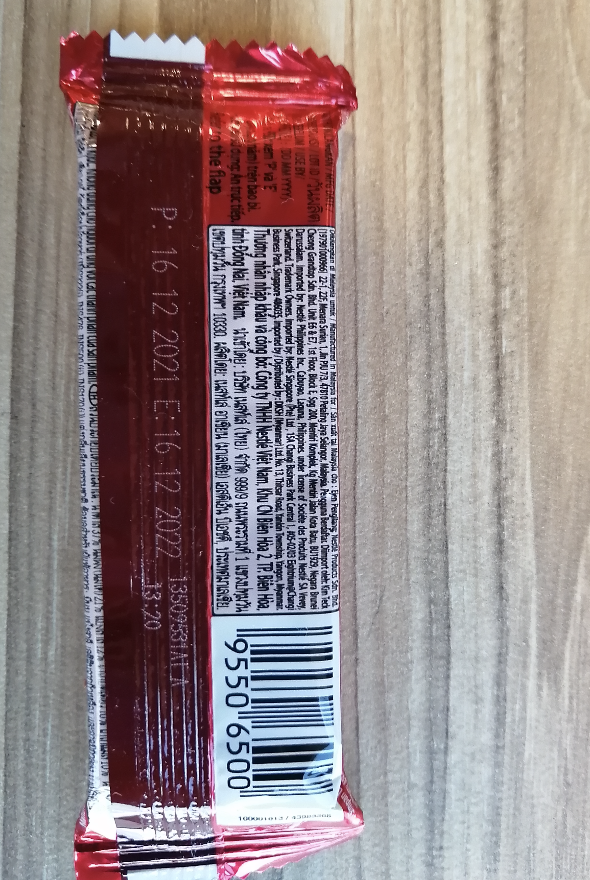Kitkat: (95, 117, 338, 821)
